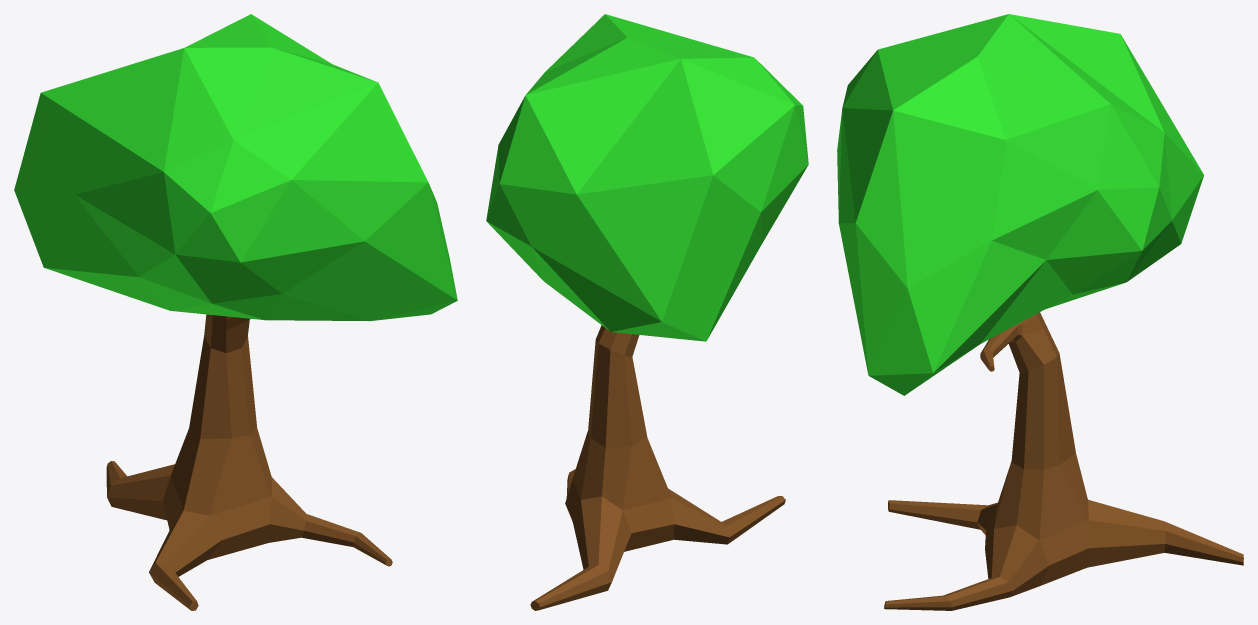
The model's file is tree01.fbx.
The picture shows the model from 3 angles, left to right: view 1: azimuth 30°, elevation 25°; view 2: azimuth 150°, elevation 25°; view 3: azimuth 270°, elevation 25°; orthographic projection. The views are drawn at different scales.
Visible parts, largest first — view 1: Tree01; view 2: Tree01; view 3: Tree01.
Part boxes in pixels (left/top/right/bottom): Tree01: left=14, top=14, right=457, bottom=610; Tree01: left=486, top=14, right=808, bottom=610; Tree01: left=837, top=14, right=1243, bottom=610.
Bounding box in the file's own units: 469 × 712 × 493.
